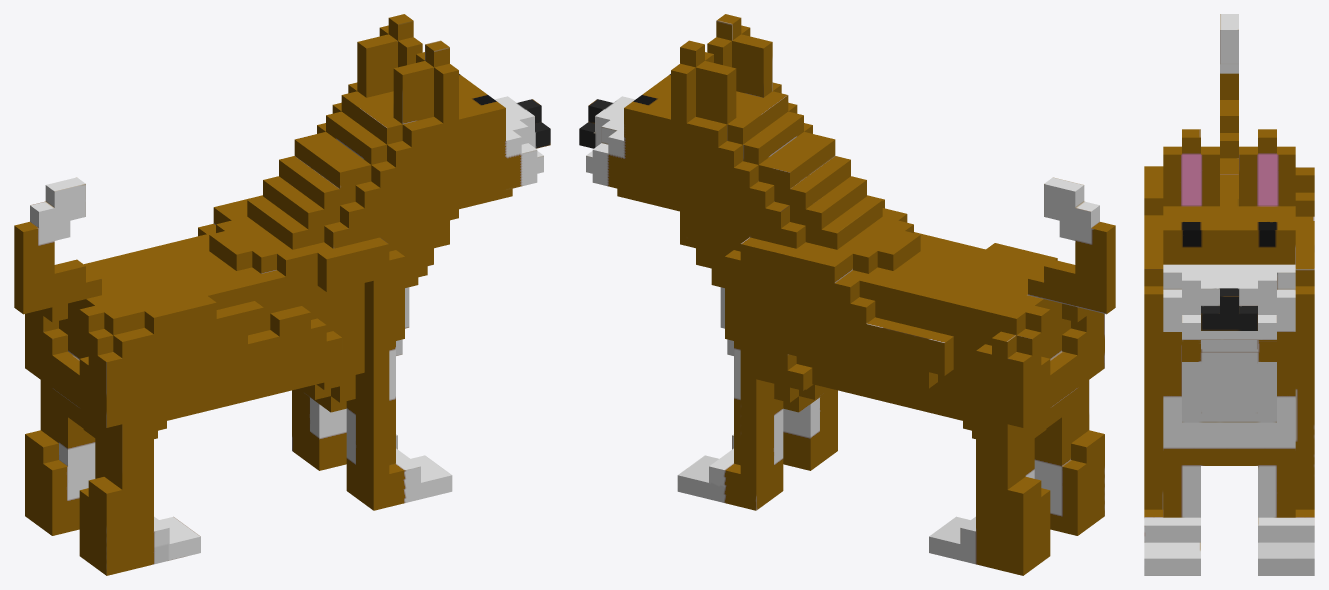
The model's file is tsun.glb.
3 renders of one model, left to right at view 1: azimuth 30°, elevation 25°; view 2: azimuth 150°, elevation 25°; view 3: azimuth 270°, elevation 25°, orthographic. The views are drawn at different scales.
Parts seen in each view (by area): view 1: tsun; view 2: tsun; view 3: tsun.
Boxes of the visible parts, x1,y1,x2,y2 form: tsun: (14, 14, 550, 575); tsun: (579, 14, 1115, 575); tsun: (1144, 14, 1314, 575).
Size of the model in its own units: 0.66 by 0.52 by 0.18.
1 material, 1 textured.
